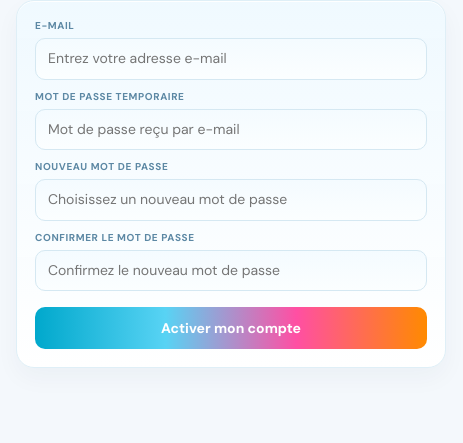
Test: ActivateAccount › retourne au login si la reponse ne contient pas de session (juste un message)
Type "user@exemple.com" into the field labelled "E-mail" at (231, 59), box [35,38,427,80]
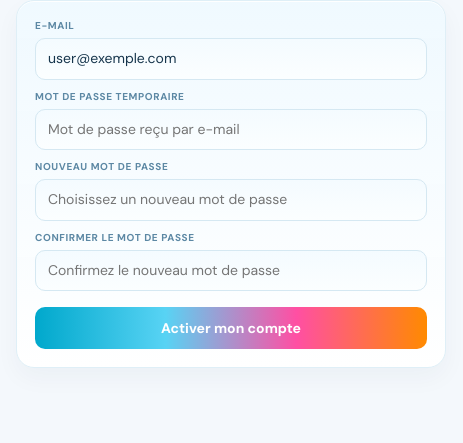
Type "temp123" into the field labelled "Mot de passe temporaire" at (231, 129), box [35,109,427,150]
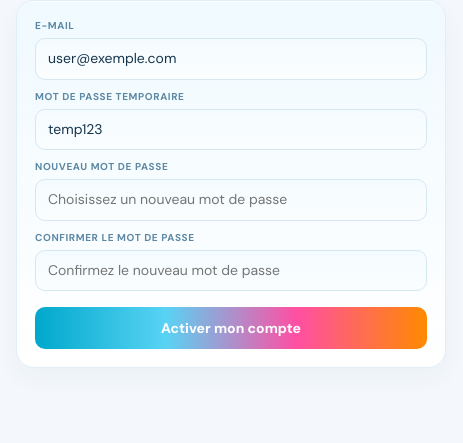
Type "NewPass123" into the password field labelled "Nouveau mot de passe" at (231, 200), box [35,179,427,221]
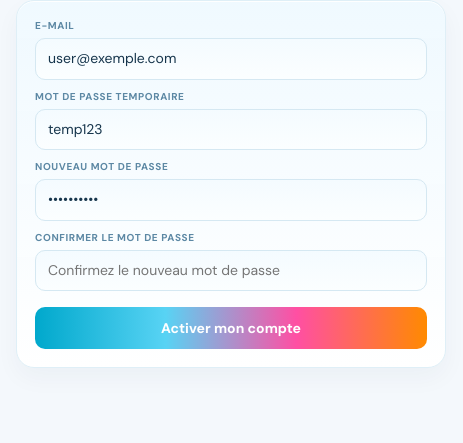
Type "NewPass123" into the password field labelled "Confirmer le mot de passe" at (231, 271), box [35,250,427,291]
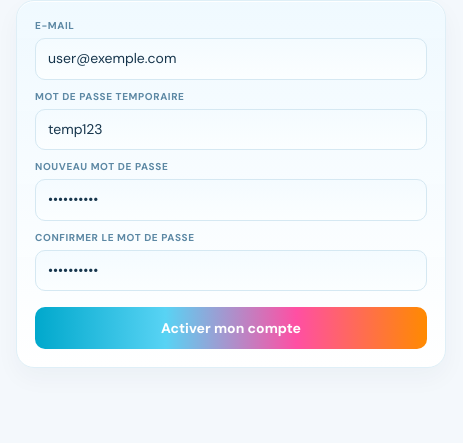
Click the button "Activer mon compte" at (231, 328), box [35,307,427,349]
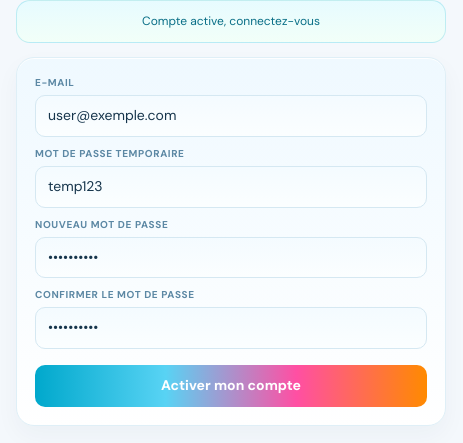
Check: the text "Compte active, connectez-vous" is shown, box [16,0,446,43]
